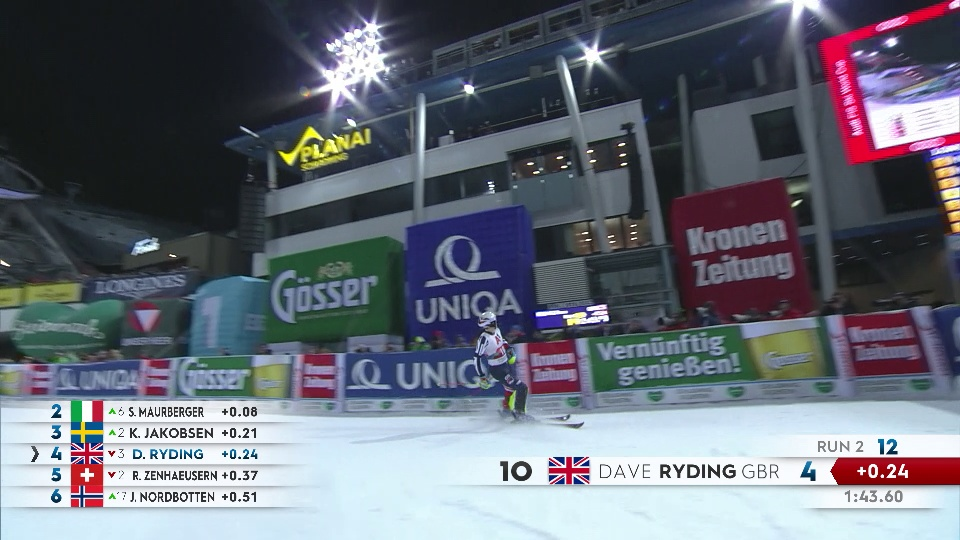goesser: (606, 332, 760, 388), (266, 255, 393, 321), (181, 360, 280, 403), (755, 340, 823, 373)
kronenzeitung: (681, 214, 805, 293), (847, 318, 923, 375), (531, 347, 578, 391), (303, 358, 340, 399)
steiermark: (1, 311, 113, 347)
uniqa: (410, 228, 523, 326), (360, 352, 499, 399), (62, 362, 169, 394)
unserheer: (129, 304, 183, 345)
